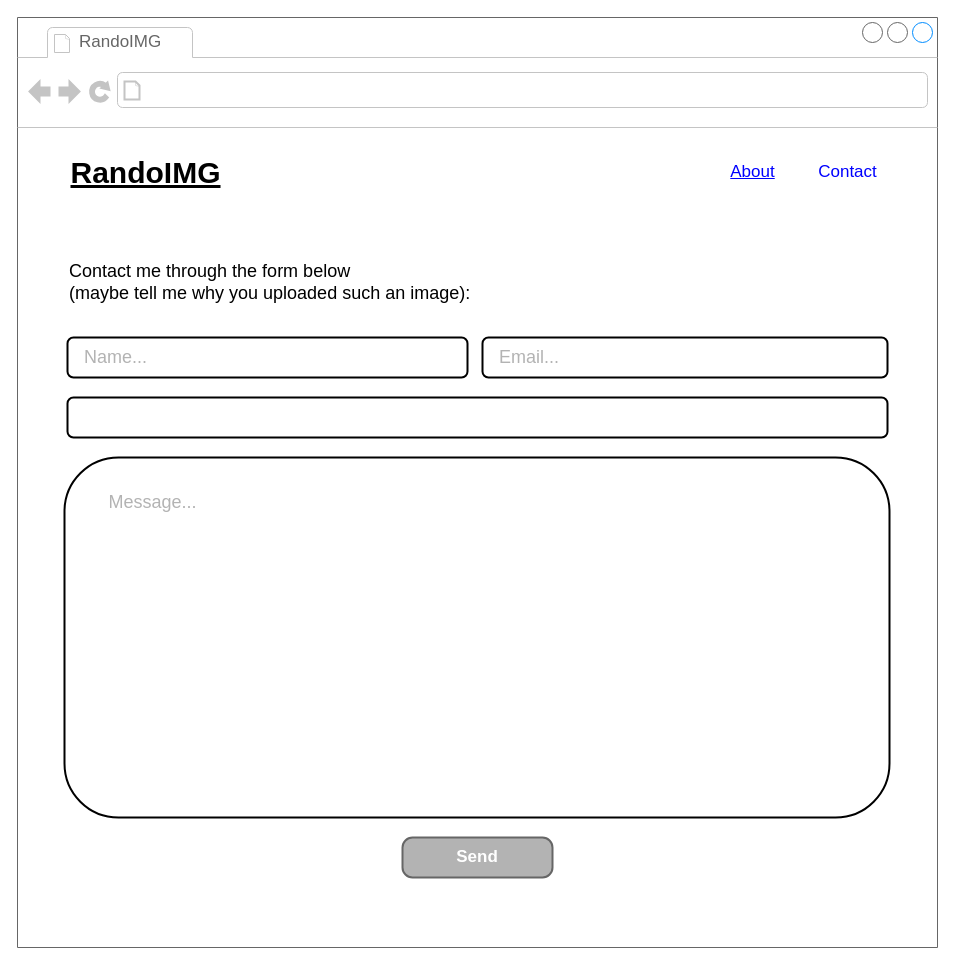
Some shapes in this 955 by 965 pixel diagram are drawn without their labels. Here are the shapes that lost their labels. From the top down, the centre of each, then its label:
At [272,90]: "https://www.rando.img/contact".
At [477,417]: "Subject...".
